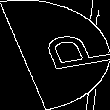P_W: (9, 31, 101, 79)
